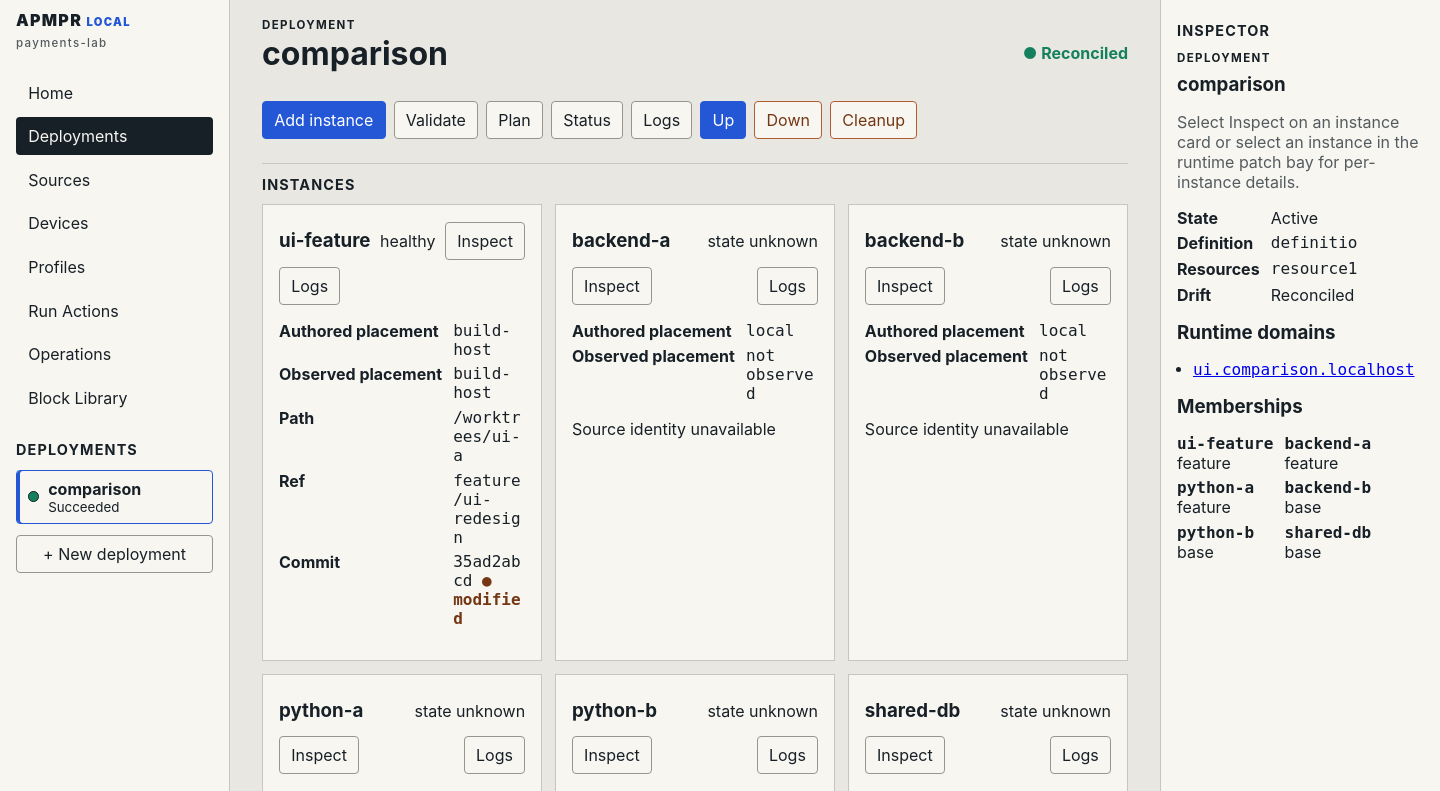
Test case: APM ProjectRunner GUI › shows an honest empty state when an instance has no attributed operations
This screenshot has width=1440, height=791.
Expected: the 1st heading "comparison" is shown, [262,34,448,73]
Click the button with aria-label "Inspect ui-feature" at (485,241), box [445,222,525,260]
(page scrolled)
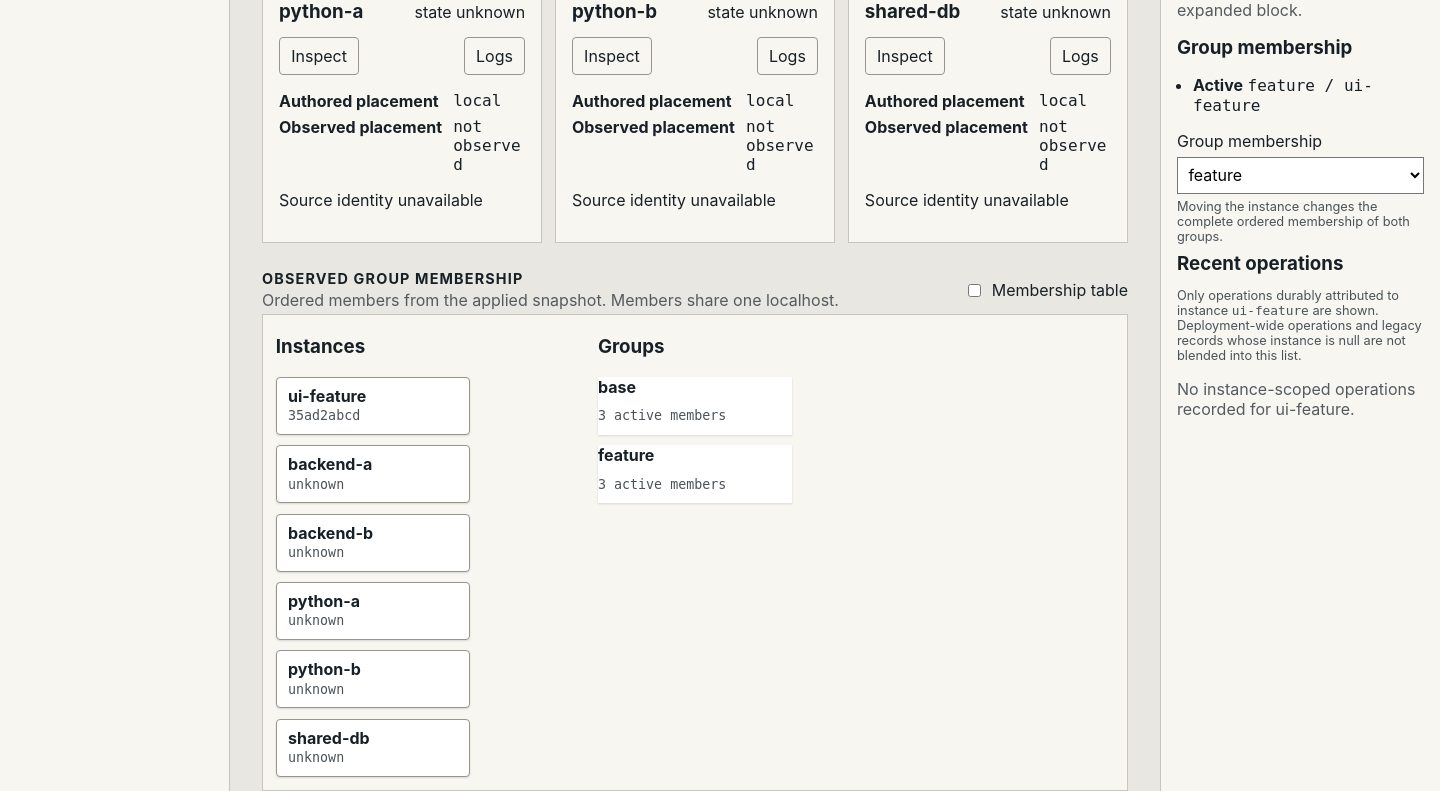
Expected: the text "No instance-scoped operations recorded for ui-feature." is shown, [1177,379,1424,419]
